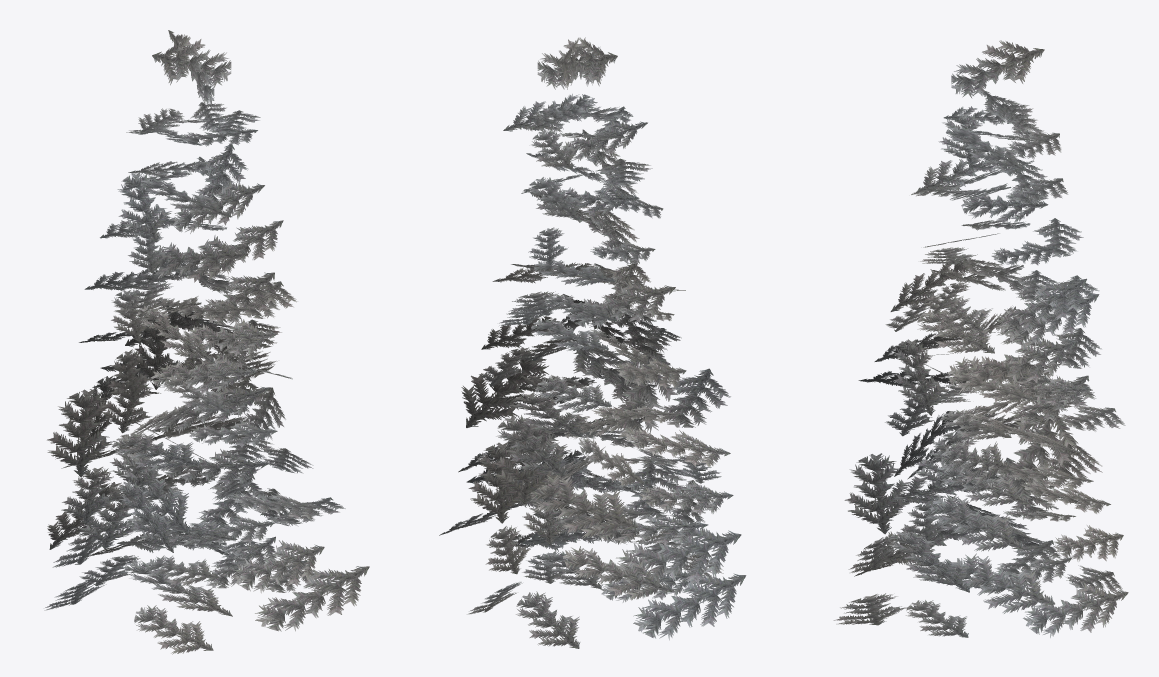
File: fir_slim_l1.gltf
3 views of the same model, side by side, from view 1: azimuth 30°, elevation 25°; view 2: azimuth 150°, elevation 25°; view 3: azimuth 270°, elevation 25° (orthographic).
Parts seen in each view (by area): view 1: fir_slim_l1; view 2: fir_slim_l1; view 3: fir_slim_l1.
Boxes of the visible parts, bbox=[...] form: fir_slim_l1: bbox=[44, 30, 369, 654]; fir_slim_l1: bbox=[439, 37, 746, 648]; fir_slim_l1: bbox=[833, 40, 1128, 638].
Size of the model in its own units: 7.78 by 14.06 by 7.65.
Materials: 1 (1 with a texture image).
